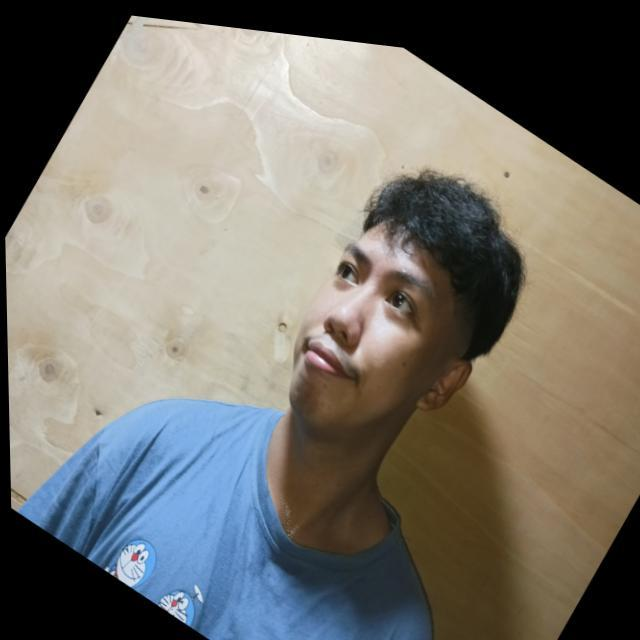Nonhelmet: (280, 164, 528, 439)
